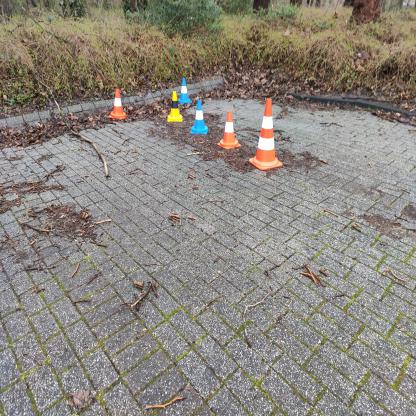Cones_big: (248, 94, 286, 176)
Cones_small_blue: (191, 99, 209, 137), (178, 77, 192, 106)
Cones_small_orange: (218, 109, 244, 151), (107, 79, 128, 126)
Cones_small_yellow: (164, 89, 184, 125)
